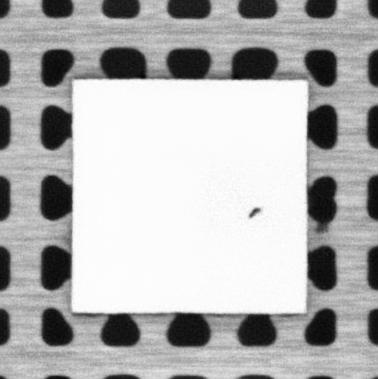DIE_INK: (248, 206, 263, 219)
